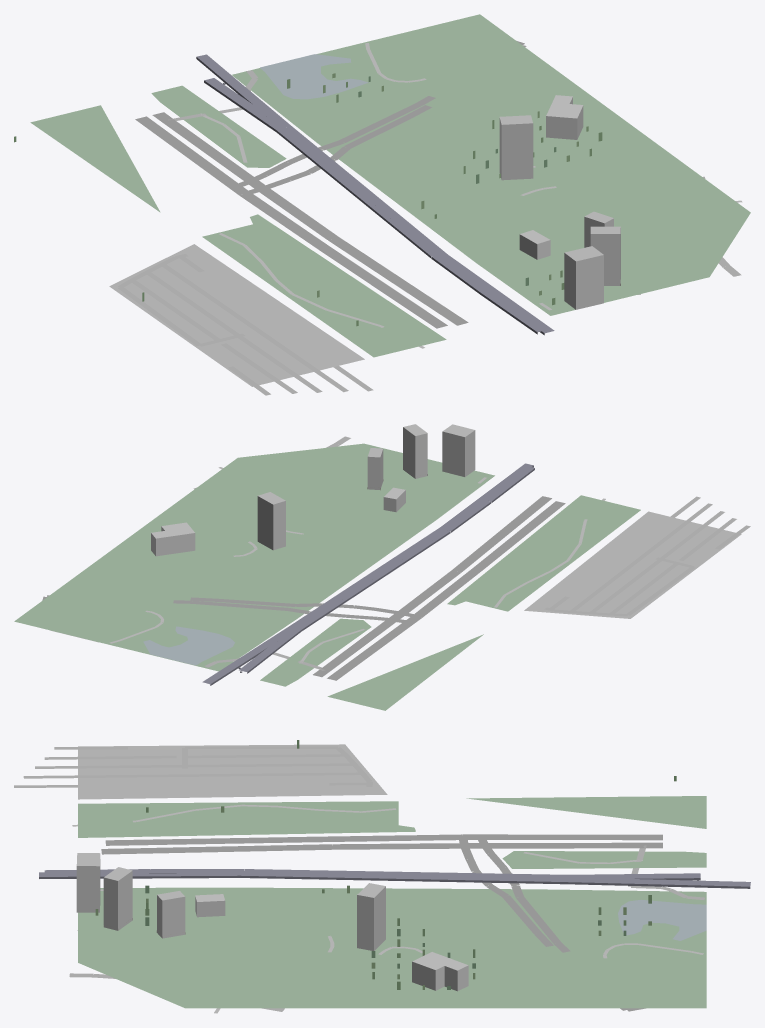
The picture shows the model from 3 angles, top to bottom: view 1: azimuth 30°, elevation 25°; view 2: azimuth 150°, elevation 25°; view 3: azimuth 270°, elevation 25°; orthographic projection. The views are drawn at different scales.
Size of the model in its own units: 500 by 48.27 by 586.
